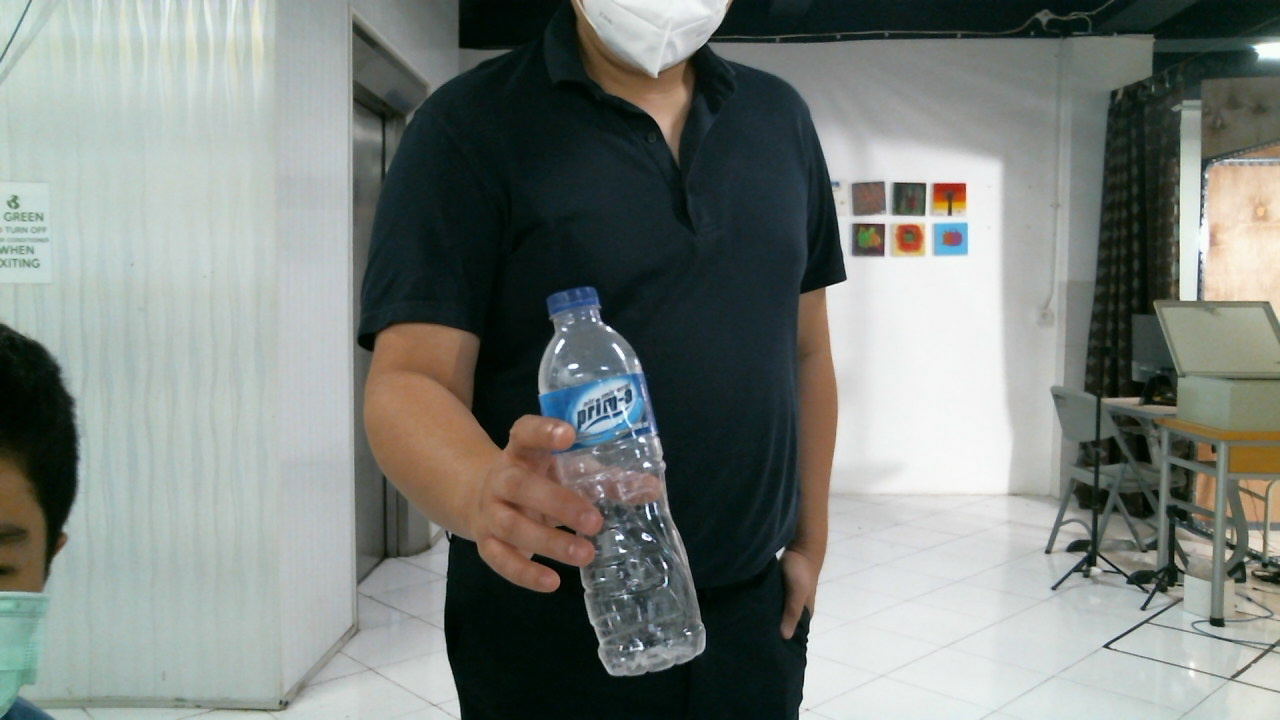Bottle: (541, 283, 710, 668)
